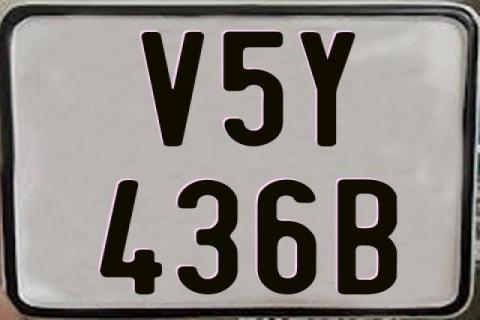0: (97, 178, 163, 292), (221, 32, 282, 150), (177, 180, 238, 298), (255, 177, 316, 293)
B: (335, 180, 399, 296)
V: (138, 32, 205, 151)
Y: (300, 31, 360, 147)
